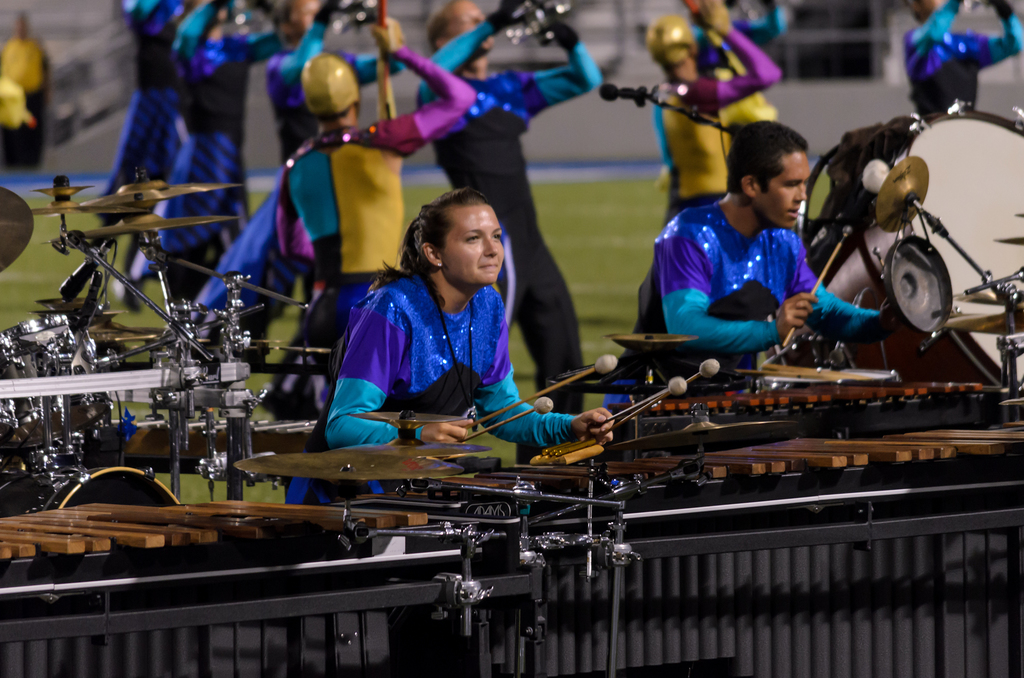Person: (0, 0, 1023, 504)
